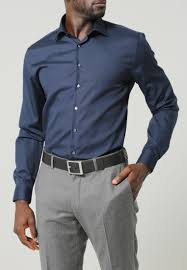F_belt: (38, 145, 139, 178)
F_shirt: (5, 24, 177, 186)
